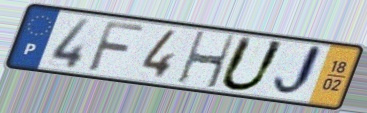4: (47, 16, 90, 70), (139, 29, 180, 80)
F: (84, 18, 148, 75)
H: (175, 29, 238, 91)
J: (269, 42, 326, 100)
U: (215, 34, 288, 94)
